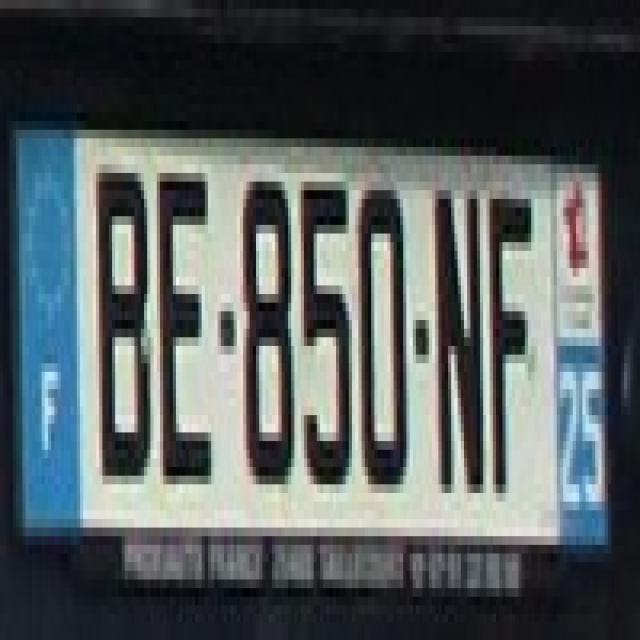EU: (17, 110, 604, 557)
France: (19, 128, 79, 532)
